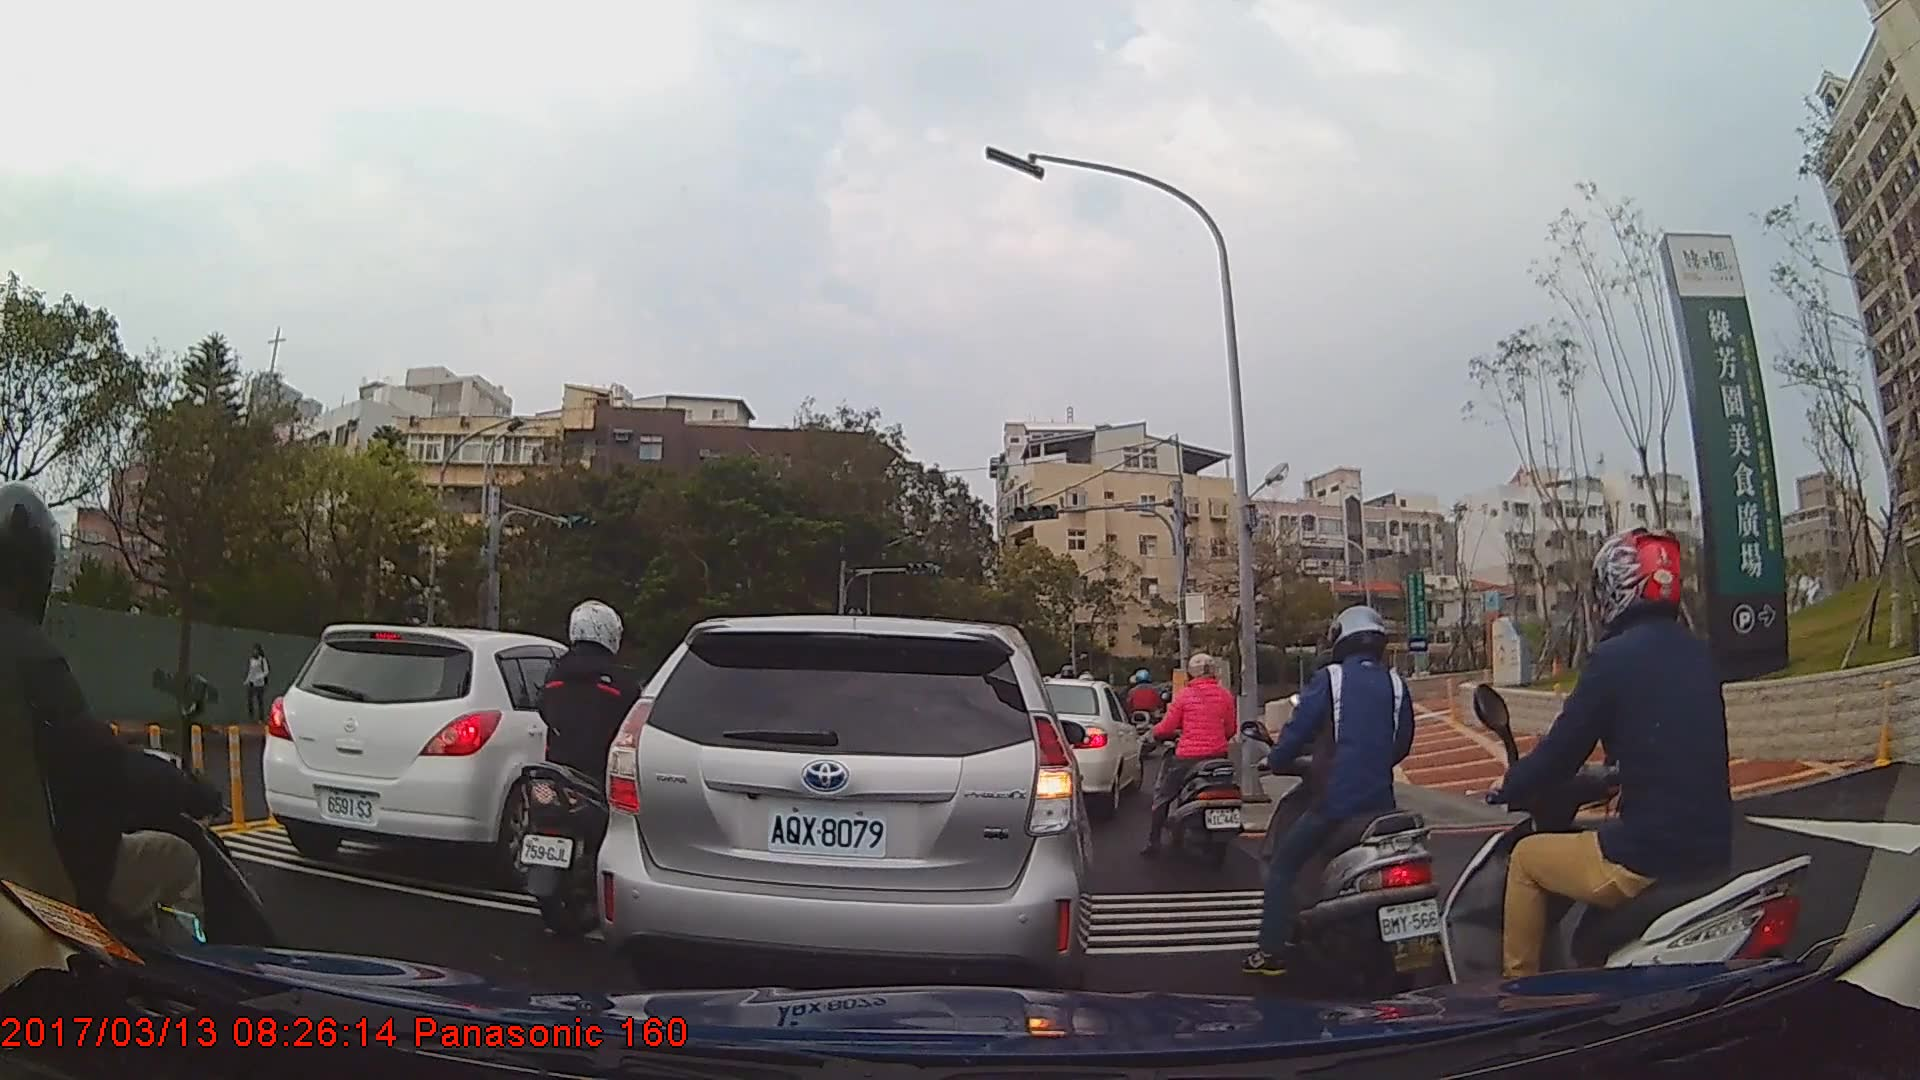pedestrian: (239, 645, 273, 724)
rider: (1435, 532, 1813, 1059), (1, 479, 295, 1080), (1241, 605, 1447, 1000), (516, 600, 669, 943), (1138, 652, 1246, 865), (1125, 668, 1166, 763)
vehicle: (595, 613, 1095, 994), (260, 623, 643, 883), (1036, 675, 1143, 817)
